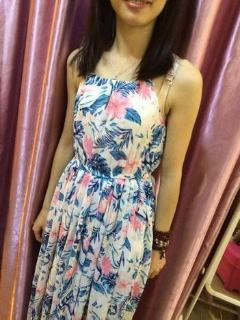sling: (27, 45, 169, 319)
